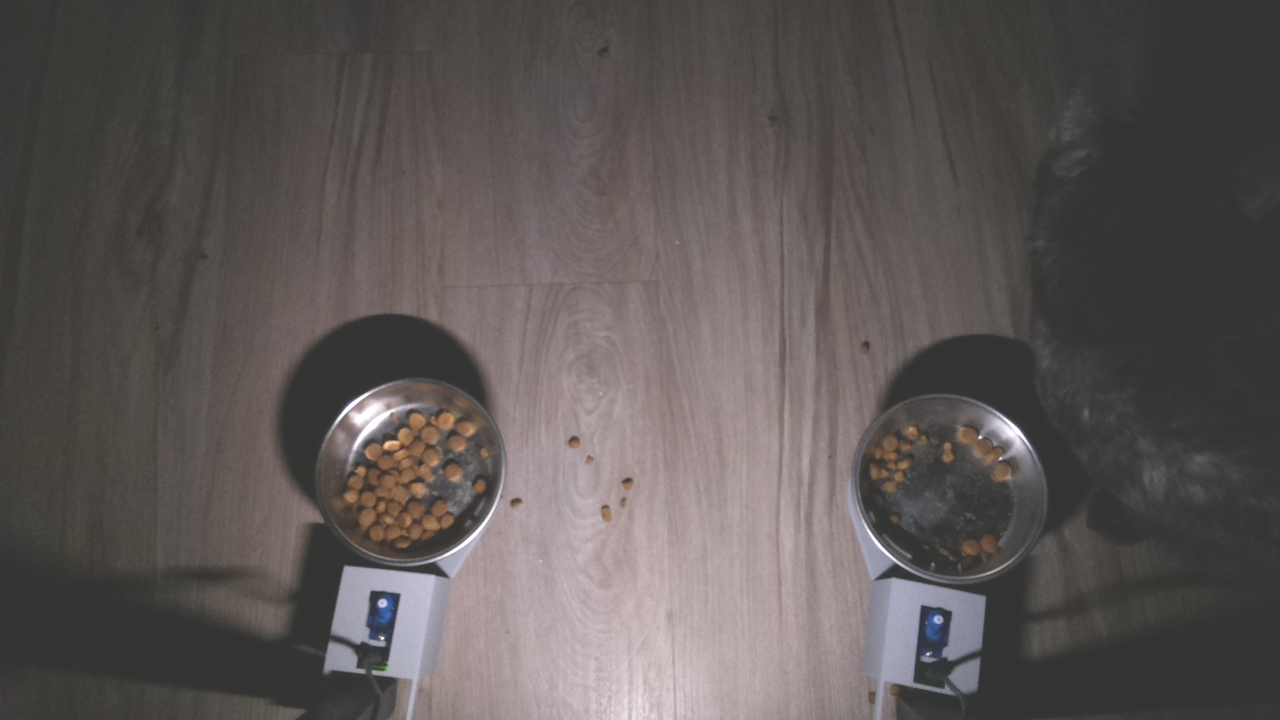open_bowl: (844, 387, 1054, 589), (311, 375, 509, 572)
saki: (1007, 62, 1280, 338)
